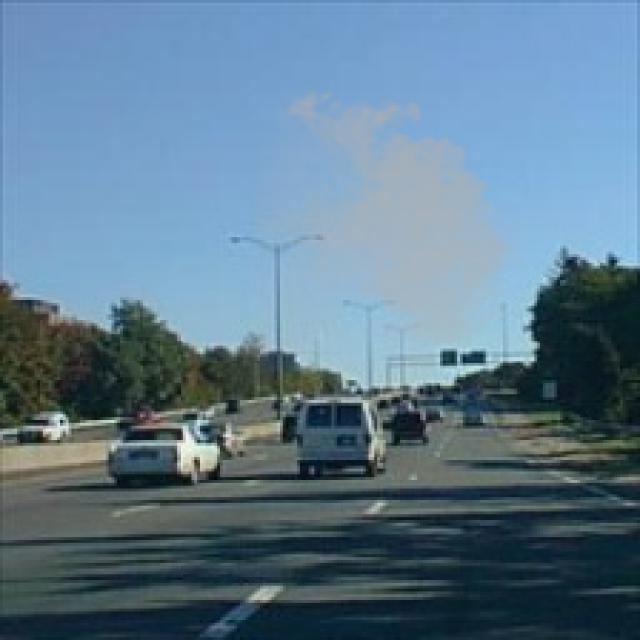smoke: (254, 83, 526, 354)
